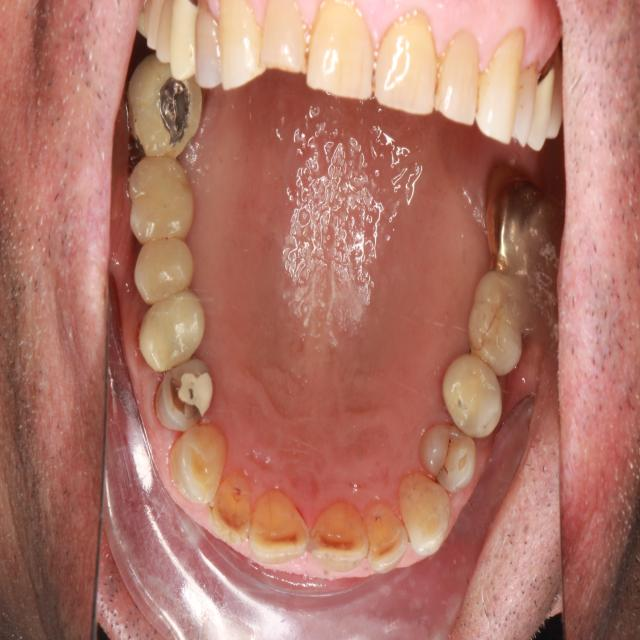tooth: (475, 155, 558, 294), (122, 50, 212, 174), (244, 472, 318, 592), (432, 344, 512, 452), (163, 403, 229, 529), (462, 263, 530, 383), (122, 155, 200, 253), (148, 349, 220, 442), (130, 287, 210, 370), (411, 406, 481, 500), (129, 229, 205, 309), (398, 463, 457, 565), (305, 489, 374, 575), (353, 492, 416, 579), (206, 468, 263, 562)
